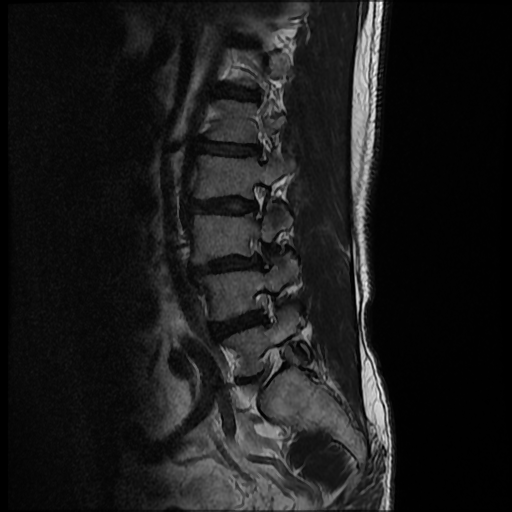RFS0: (237, 176, 276, 224)
RFS1: (248, 281, 285, 331)
RFS3: (235, 230, 275, 277)
